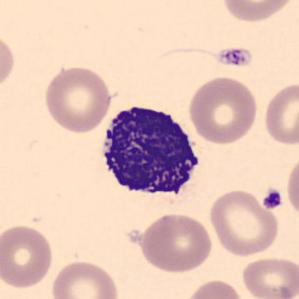Basophil: (94, 96, 208, 210)
Platelets: (215, 45, 254, 69), (261, 187, 284, 211)
RBC: (206, 187, 282, 258), (186, 74, 260, 146), (41, 62, 114, 134), (137, 211, 214, 274), (0, 223, 56, 290), (49, 258, 121, 299), (239, 254, 298, 299), (262, 80, 298, 148), (220, 0, 296, 24), (182, 277, 245, 299), (0, 30, 17, 93), (284, 154, 299, 220)
